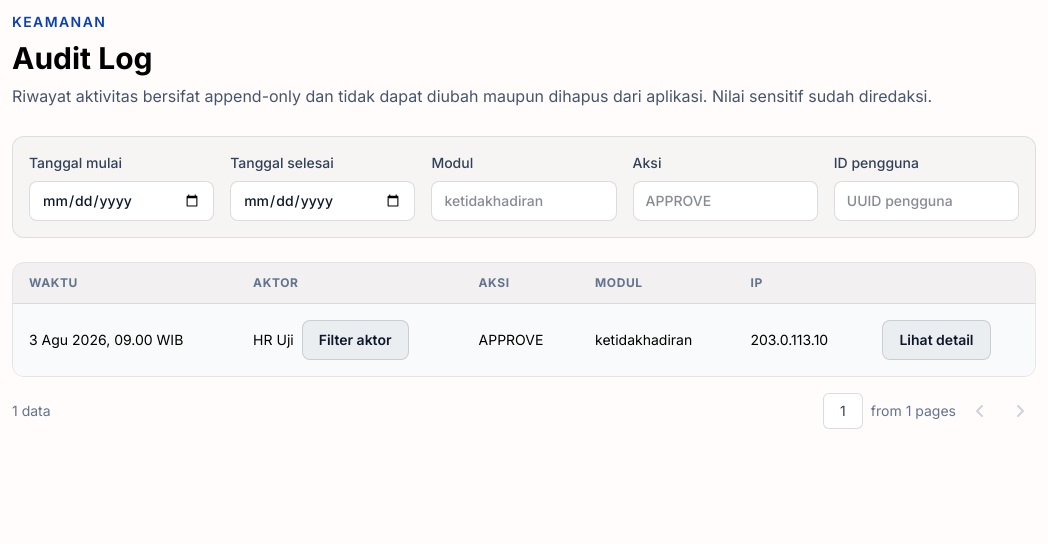
Test case: AuditLogPage › renders detail as text inside a disclosure
Click the button "Lihat detail".
click(937, 340)  # box x1=882 y1=320 x2=991 y2=360
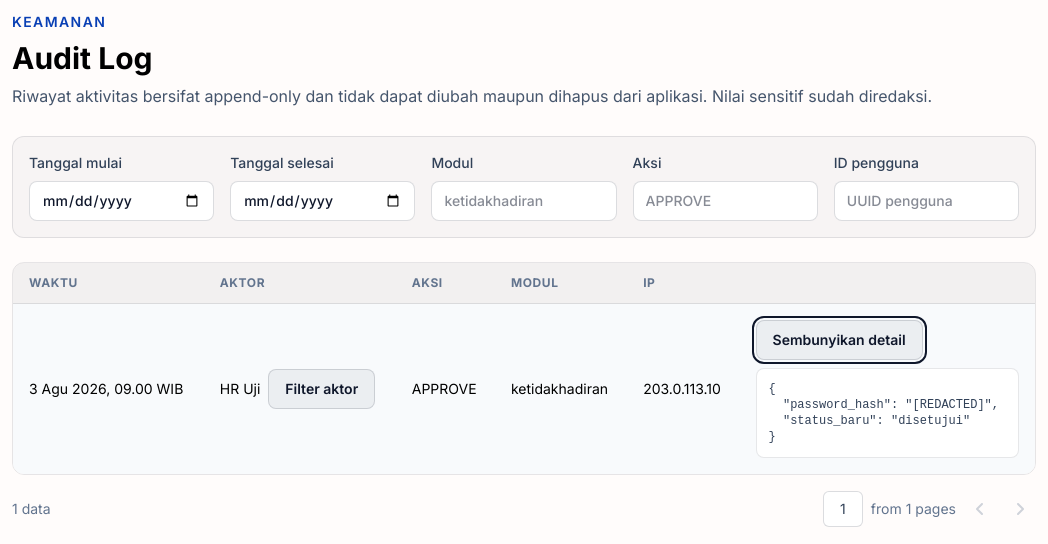
Result: the text "status_baru" shows "[REDACTED]" at x1=768 y1=382 x2=999 y2=444
